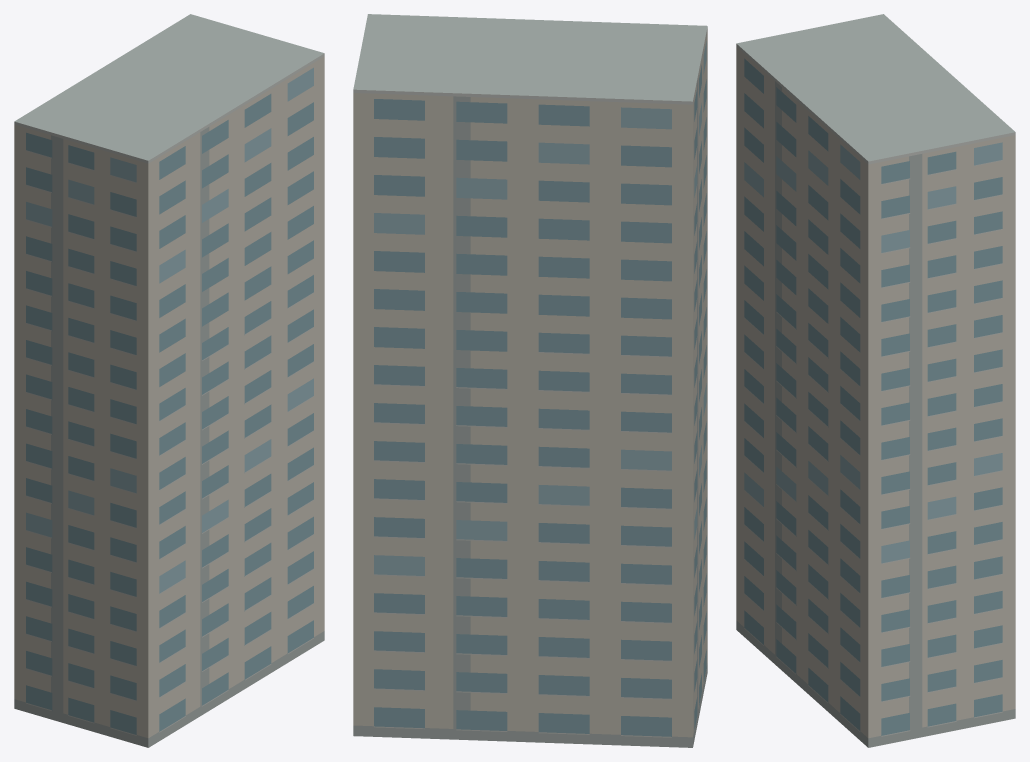
The model's file is residential-4de5ce59-c3a5-4733-9b51-289b64078d92.glb.
The picture shows the model from 3 angles, left to right: view 1: azimuth 30°, elevation 25°; view 2: azimuth 150°, elevation 25°; view 3: azimuth 270°, elevation 25°; orthographic projection. The views are drawn at different scales.
Parts seen in each view (by area): view 1: residential-4de5ce59-c3a5-4733-9b51-289b64078d92.tmp; view 2: residential-4de5ce59-c3a5-4733-9b51-289b64078d92.tmp; view 3: residential-4de5ce59-c3a5-4733-9b51-289b64078d92.tmp.
Part boxes in pixels (x1,y1,x2,y2): residential-4de5ce59-c3a5-4733-9b51-289b64078d92.tmp: [14, 14, 324, 747]; residential-4de5ce59-c3a5-4733-9b51-289b64078d92.tmp: [353, 14, 707, 747]; residential-4de5ce59-c3a5-4733-9b51-289b64078d92.tmp: [736, 14, 1015, 747].
Bounding box in the file's own units: 26.46 × 49 × 21.17.
